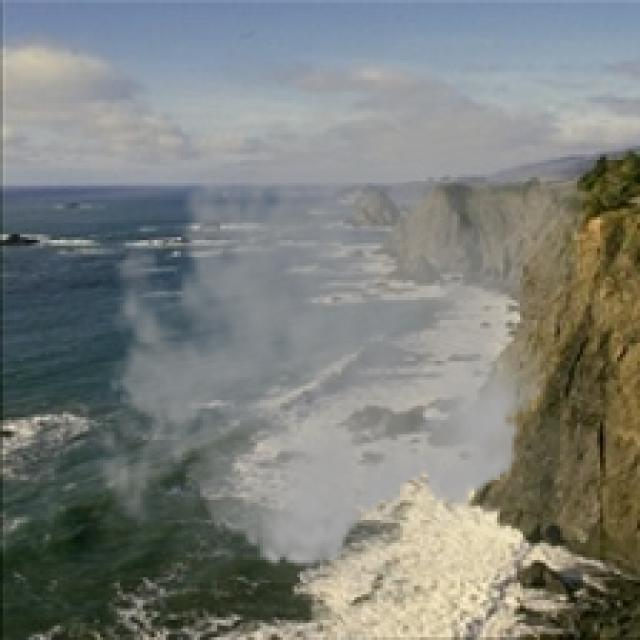Smoke: (80, 40, 600, 583)
